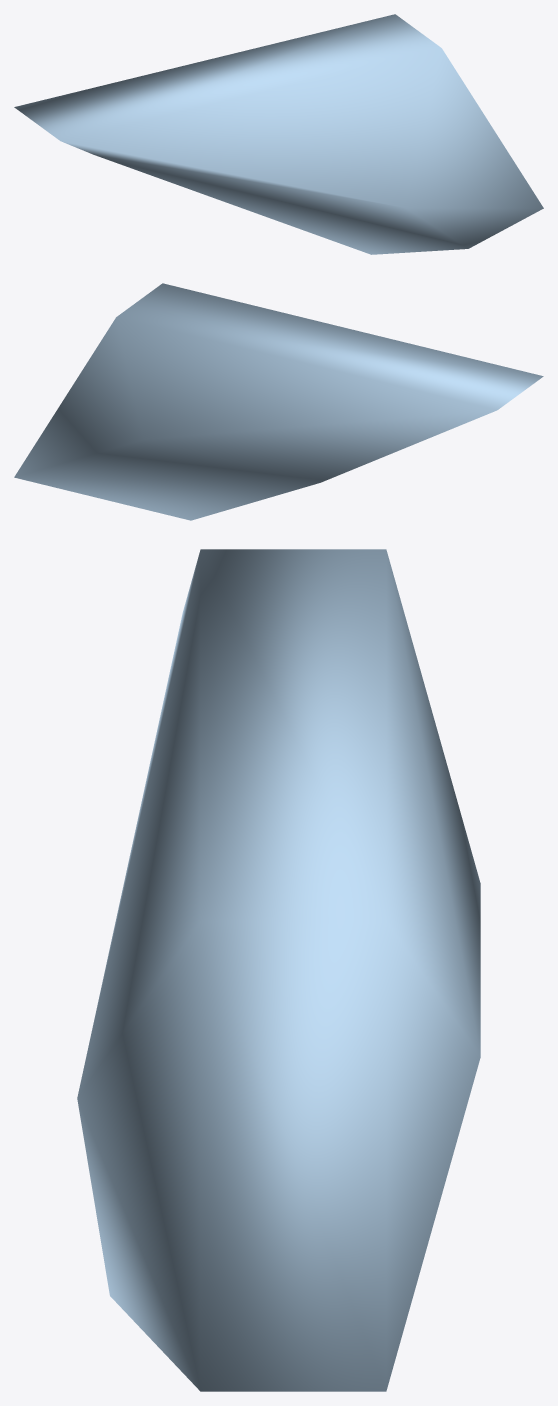
File: quartz-faden.glb
The picture shows the model from 3 angles, top to bottom: view 1: azimuth 30°, elevation 25°; view 2: azimuth 150°, elevation 25°; view 3: azimuth 270°, elevation 25°; orthographic projection. The views are drawn at different scales.
Parts seen in each view (by area): view 1: quartz-faden; view 2: quartz-faden; view 3: quartz-faden.
Boxes of the visible parts, <box> form: quartz-faden: <box>14,14,543,254</box>; quartz-faden: <box>14,283,543,520</box>; quartz-faden: <box>77,549,480,1391</box>.
Size of the model in its own units: 1.09 by 0.4 by 0.3949.
